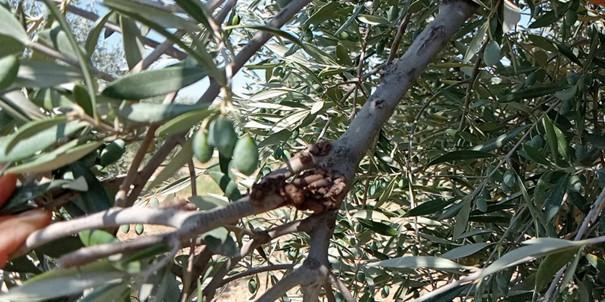Tuberculosis: (249, 148, 363, 210)
